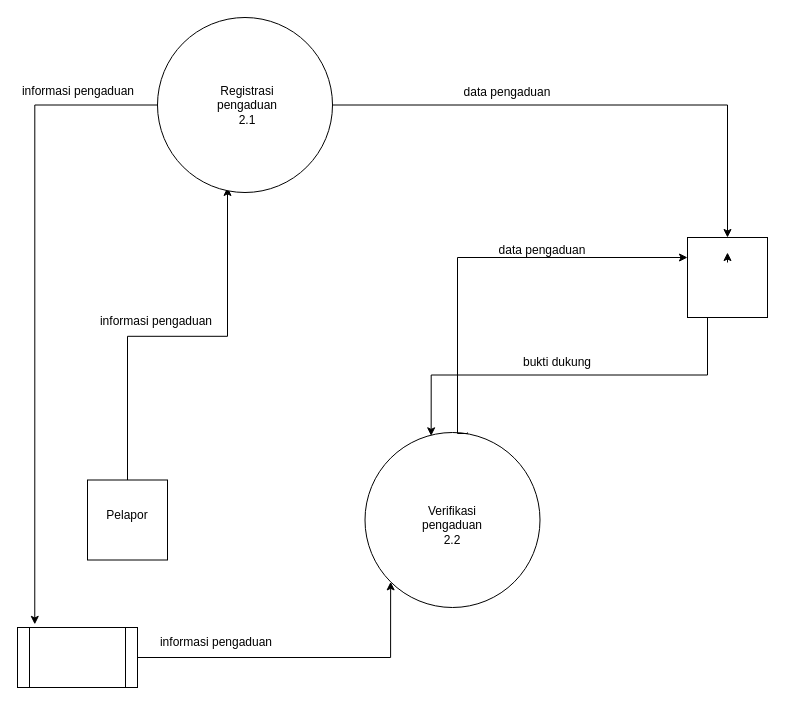
This 785x705 diagram has some shape labels left out. The centre of each missing label's shape, as x and y in pixels:
Pemeriksa: (727,277)
tabel pengaduan: (77,657)
